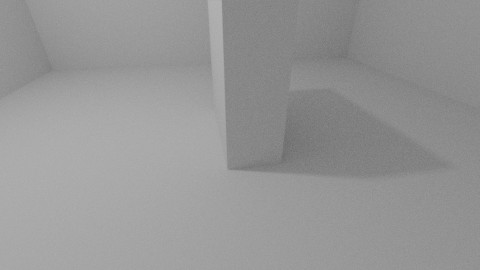cheminee: (208, 1, 299, 170)
